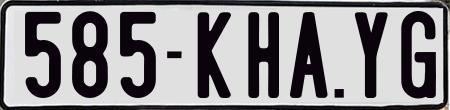5: (117, 10, 157, 102), (25, 10, 66, 96)
8: (70, 9, 108, 100)
A: (288, 12, 330, 101)
G: (398, 11, 432, 99)
H: (247, 10, 284, 102)
K: (196, 10, 232, 99)
Y: (353, 12, 391, 101)
